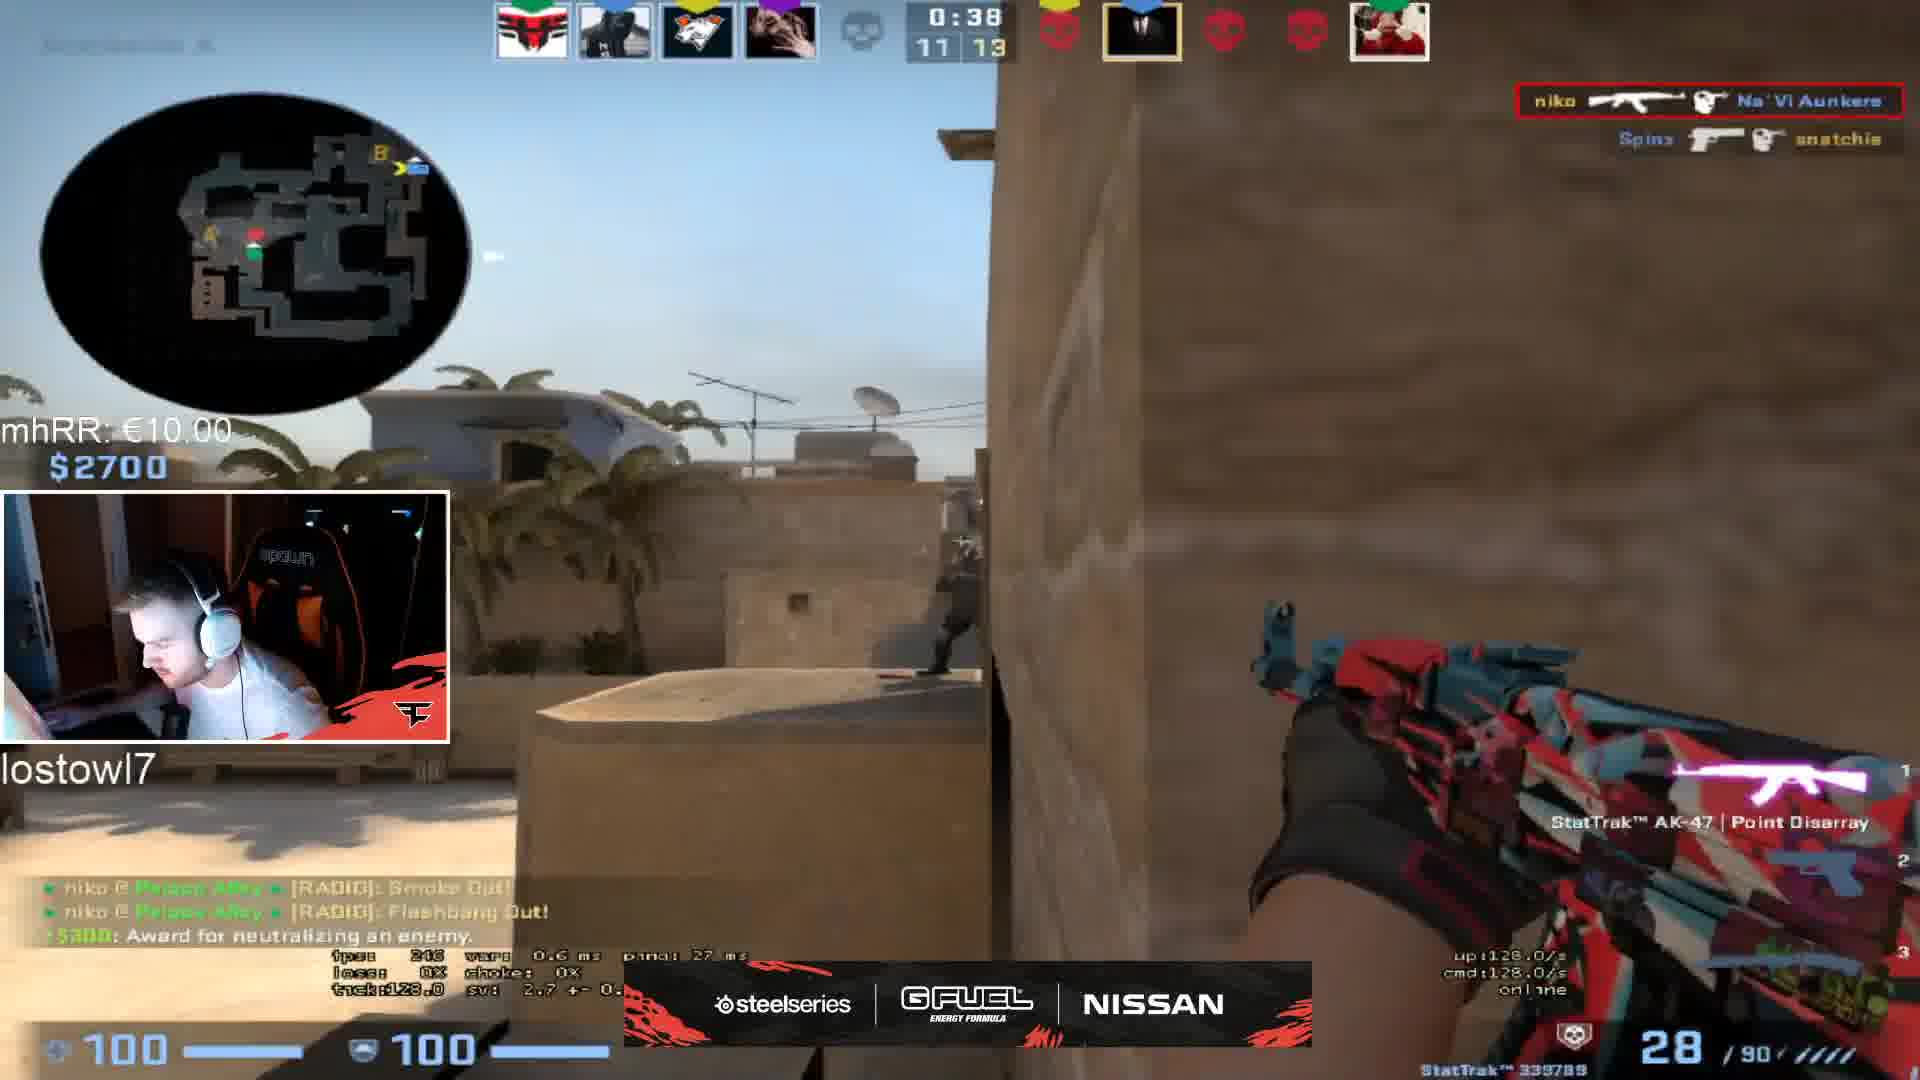enemy: (919, 525, 1000, 682)
